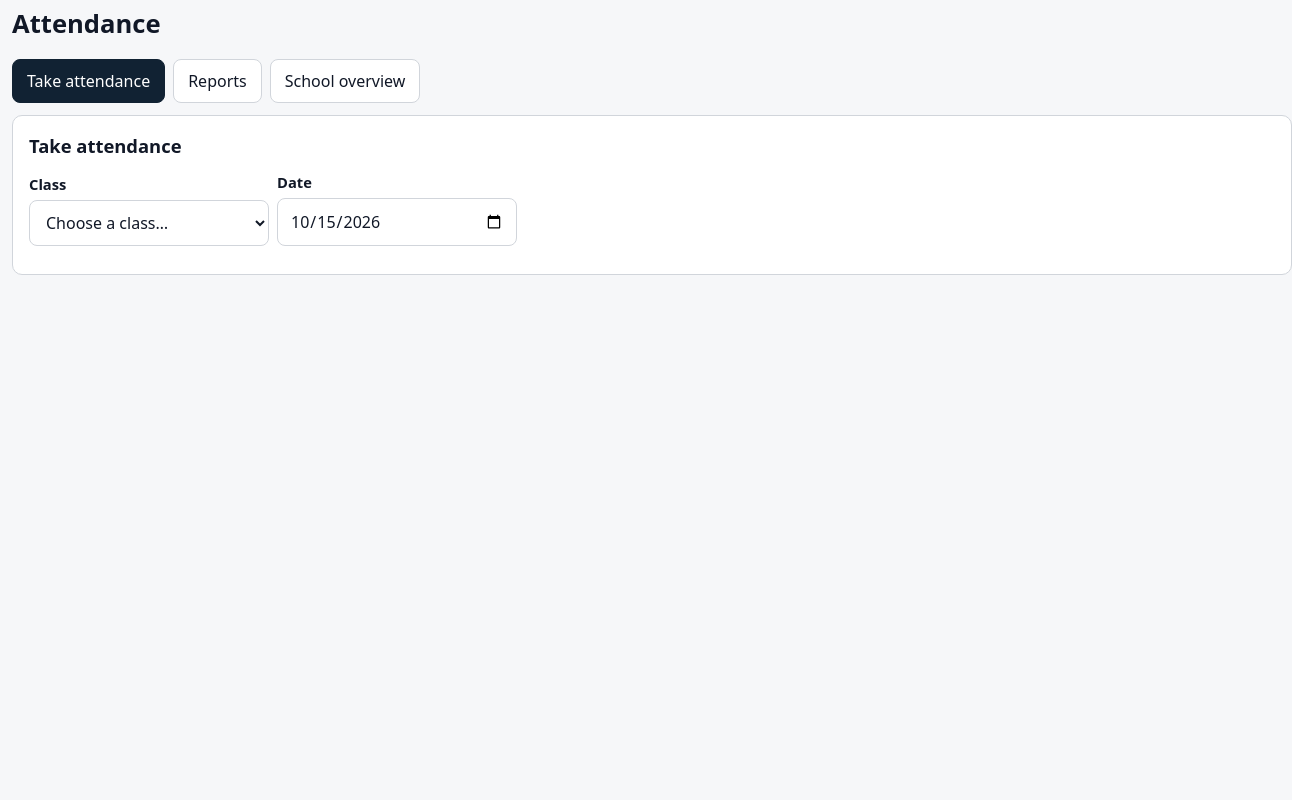
Test: Take attendance › a save failure shows a friendly message and records nothing
Step 1. Select "JSS 1" in the dropdown labelled "Class" → (149, 222), box left=29, top=200, right=269, bottom=246
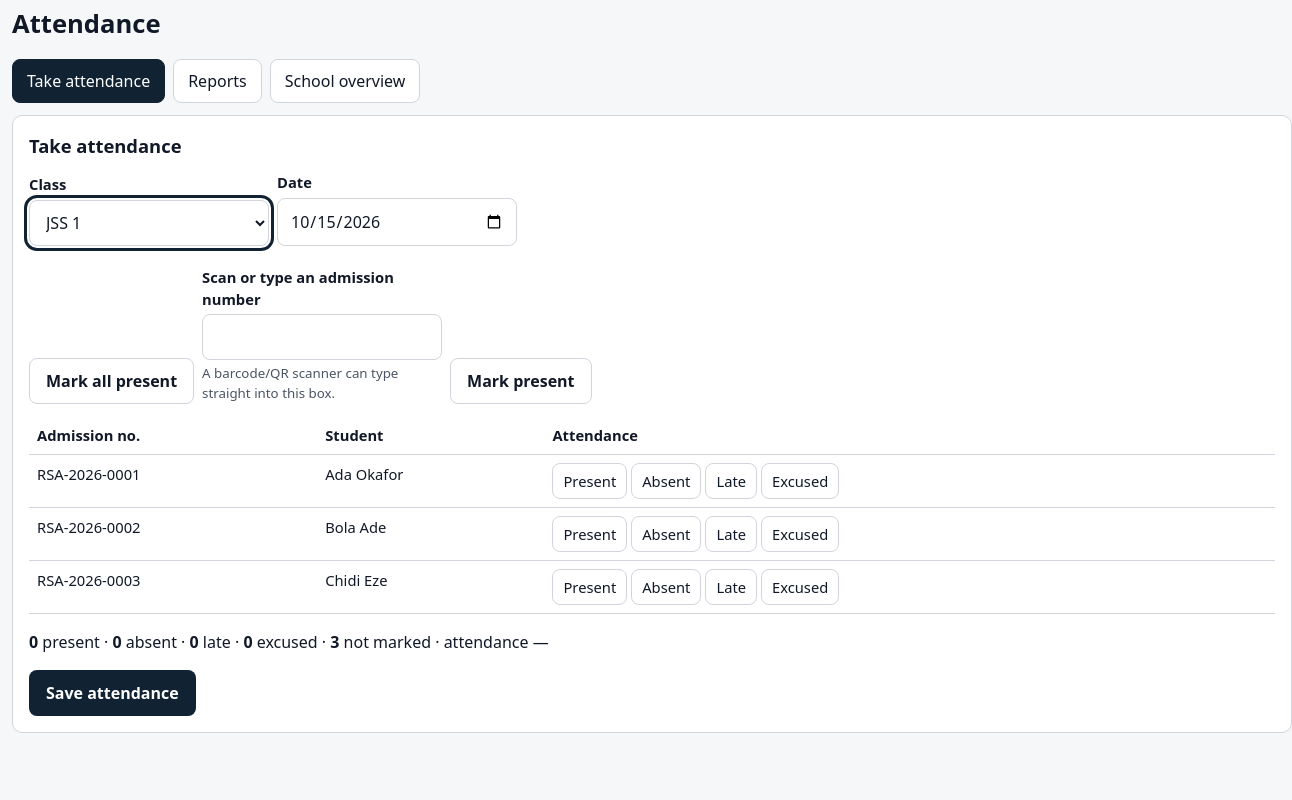
Result: the text "Ada Okafor" is shown at left=317, top=454, right=544, bottom=507
Step 2. Click the button "Mark all present" → (112, 381), box left=29, top=358, right=194, bottom=404
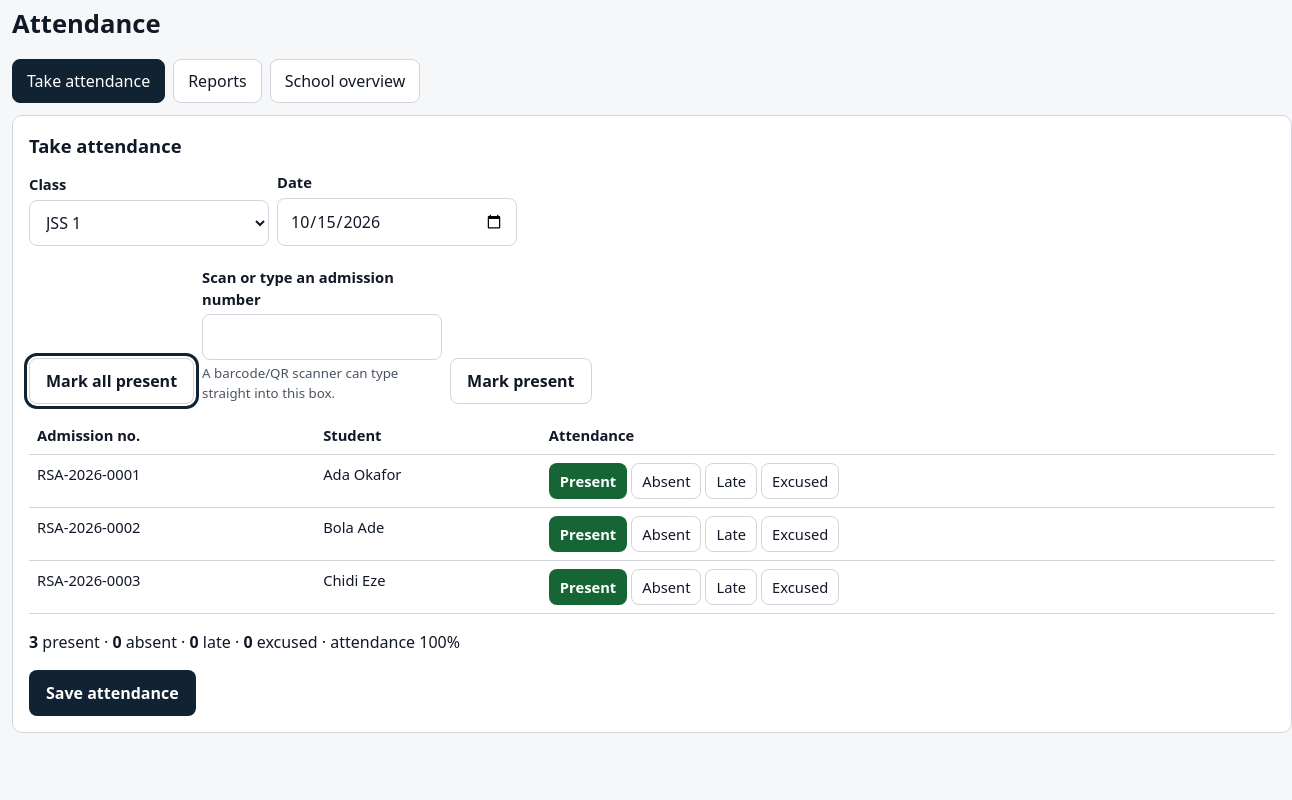
Step 3. Click the button "Save attendance" → (112, 693), box left=29, top=670, right=196, bottom=716
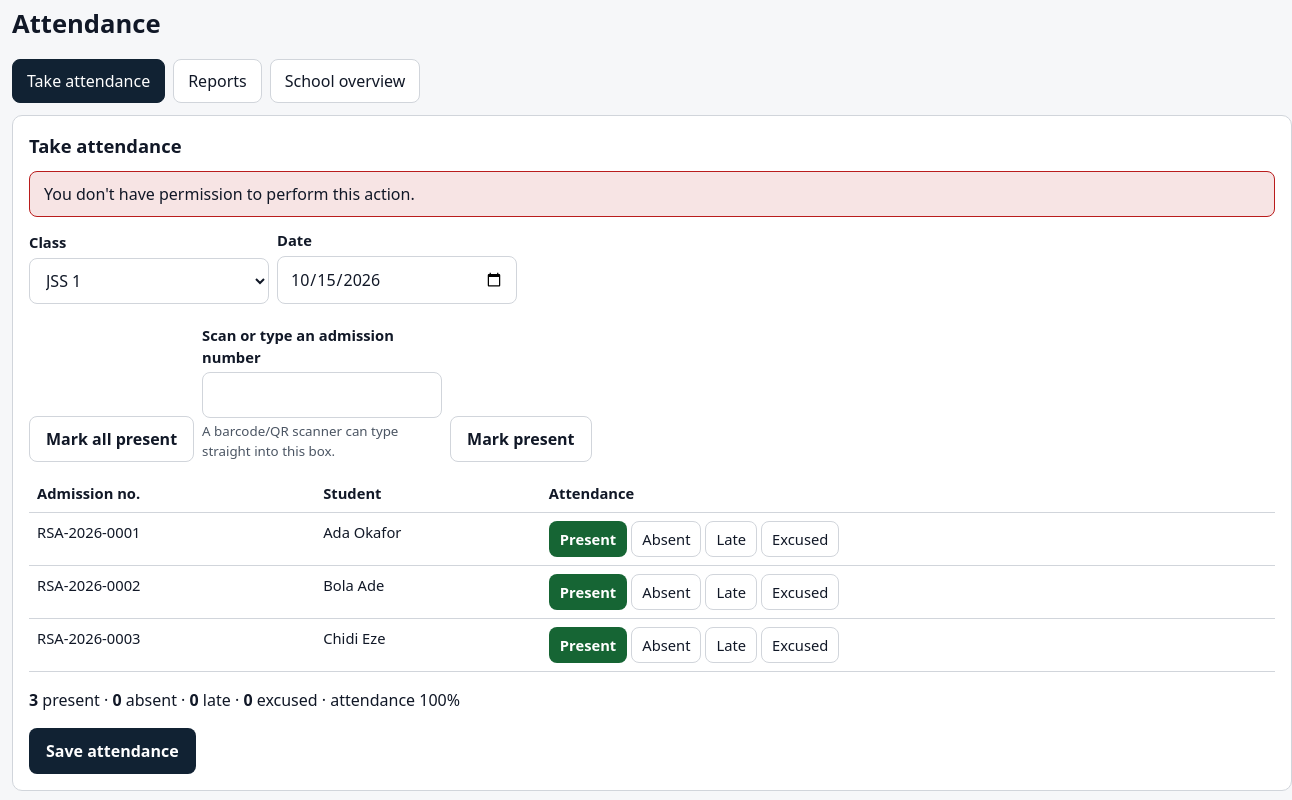
Result: the message "You don't have permission to perform this action." is shown at left=29, top=172, right=1275, bottom=218
